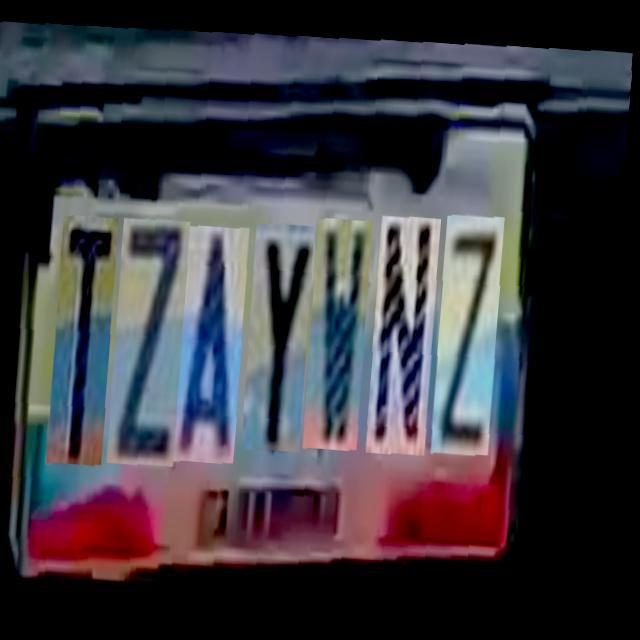A: (178, 208, 253, 448)
N: (369, 202, 443, 442)
T: (52, 197, 122, 448)
W: (306, 204, 375, 436)
Y: (245, 208, 317, 437)
Z: (112, 200, 194, 450), (434, 202, 506, 444)
